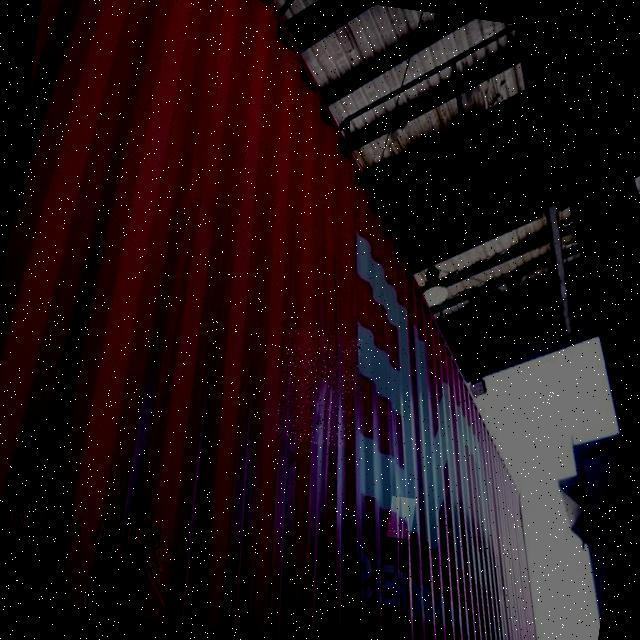Dent: (273, 329, 363, 448)
Minor-Dent: (387, 496, 416, 540)
